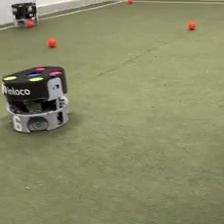ball: (47, 36, 57, 48), (188, 20, 196, 30), (26, 19, 33, 28), (126, 1, 134, 5)
robot: (1, 64, 70, 135), (9, 1, 40, 27)
